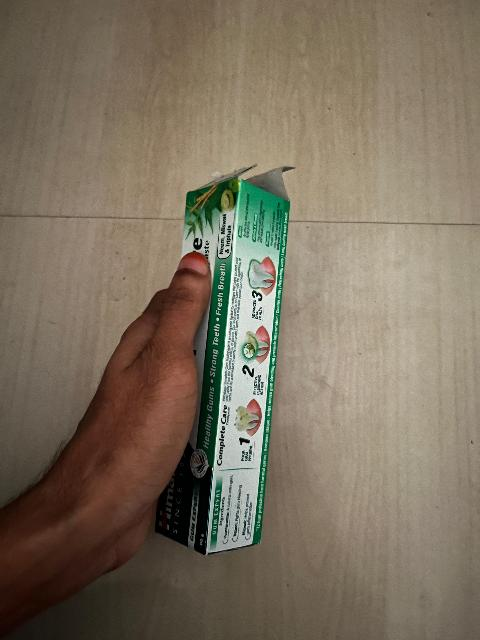hand: (106, 244, 205, 542)
himalaya toothpaste: (212, 178, 280, 556)
